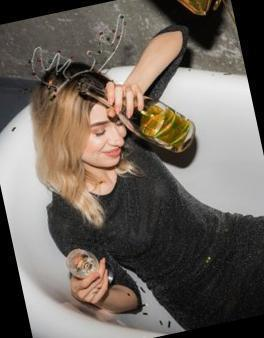Drunk: (78, 100, 128, 169)
